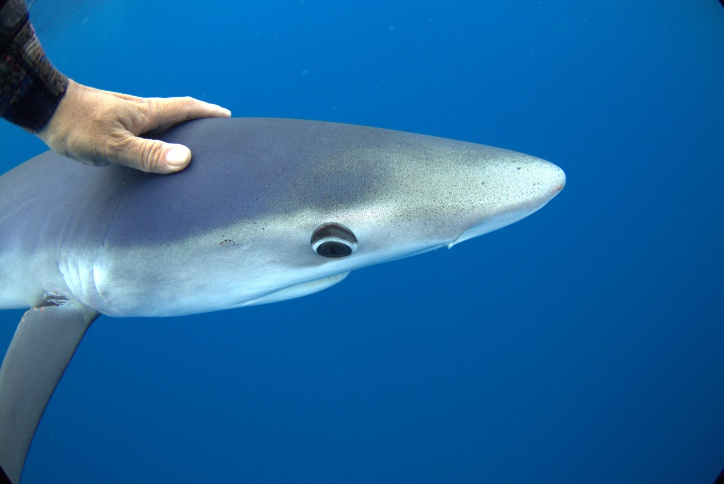Azul: (1, 74, 641, 484)
